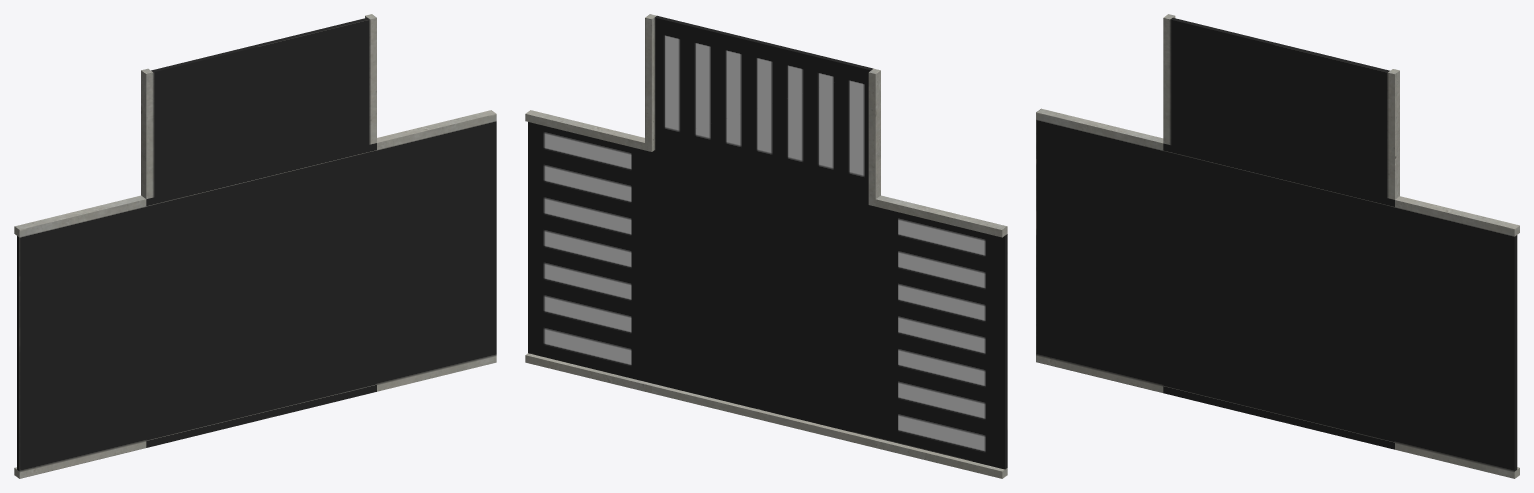
Rendered from road-cross-three.fbx.
3 views of the same model, side by side, from view 1: azimuth 30°, elevation 25°; view 2: azimuth 150°, elevation 25°; view 3: azimuth 330°, elevation 25° (orthographic).
Parts seen in each view (by area): view 1: road-cross-three; view 2: road-cross-three; view 3: road-cross-three.
Part boxes in pixels (bbox=[...]): road-cross-three: bbox=[14, 14, 496, 478]; road-cross-three: bbox=[525, 14, 1007, 478]; road-cross-three: bbox=[1036, 14, 1519, 478].
Size of the model in its own units: 8 by 5.99 by 0.15.
